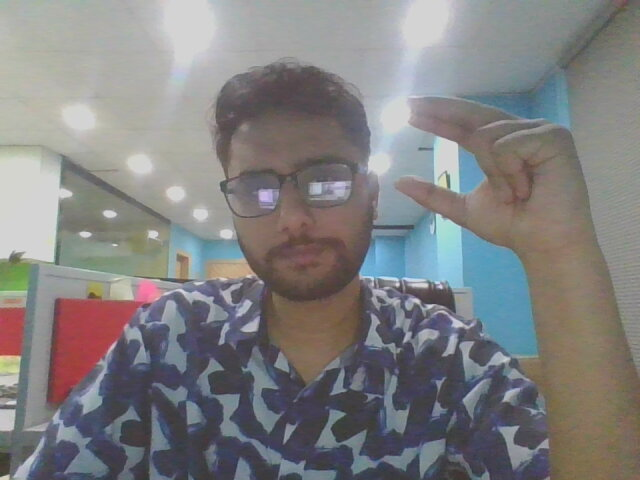no: (393, 75, 599, 265)
